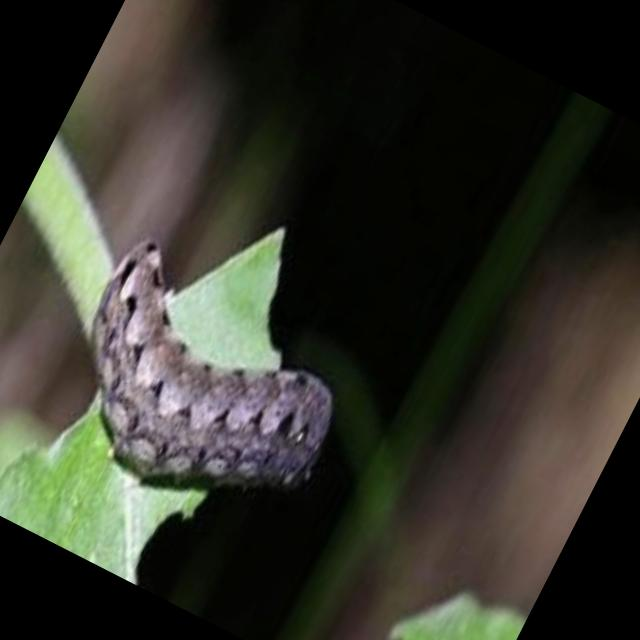Tobacco cutworm: (0, 178, 428, 574)
